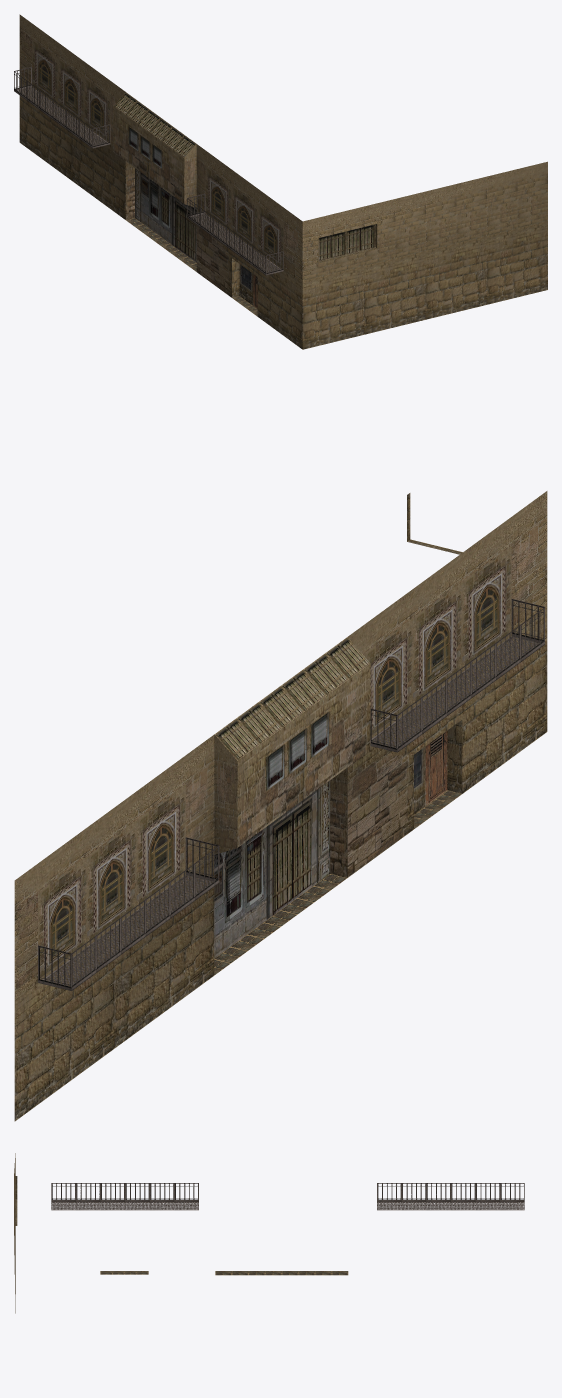
The model's file is M7Z2_WallSection3A.glb.
The picture shows the model from 3 angles, top to bottom: view 1: azimuth 30°, elevation 25°; view 2: azimuth 150°, elevation 25°; view 3: azimuth 270°, elevation 25°; orthographic projection. The views are drawn at different scales.
Visible parts, largest first — view 1: M7Z2_WALLSECTION3A; view 2: M7Z2_WALLSECTION3A; view 3: M7Z2_WALLSECTION3A.
Part boxes in pixels (box(x1,y1,x2,y2)): M7Z2_WALLSECTION3A: box(14, 14, 547, 349); M7Z2_WALLSECTION3A: box(14, 491, 547, 1121); M7Z2_WALLSECTION3A: box(14, 1153, 524, 1313).
Bounding box in the file's own units: 17.17 × 8 × 32.1.
12 materials, 12 textured.
